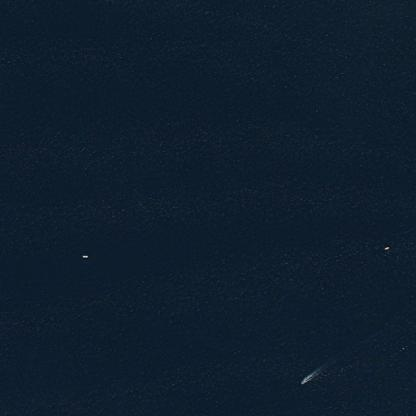ship: (298, 371, 307, 381), (79, 250, 88, 252), (384, 247, 388, 248)
